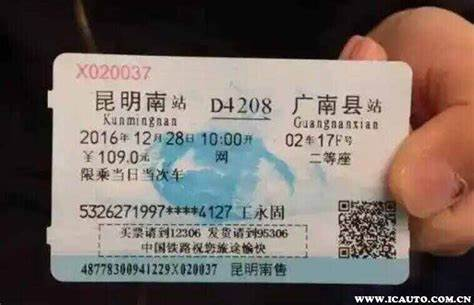GT: (45, 44, 414, 289)
